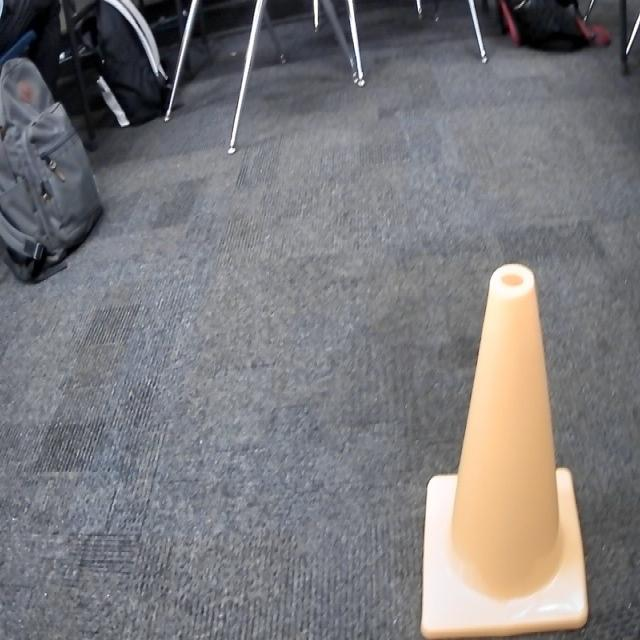cone: (420, 262, 592, 640)
